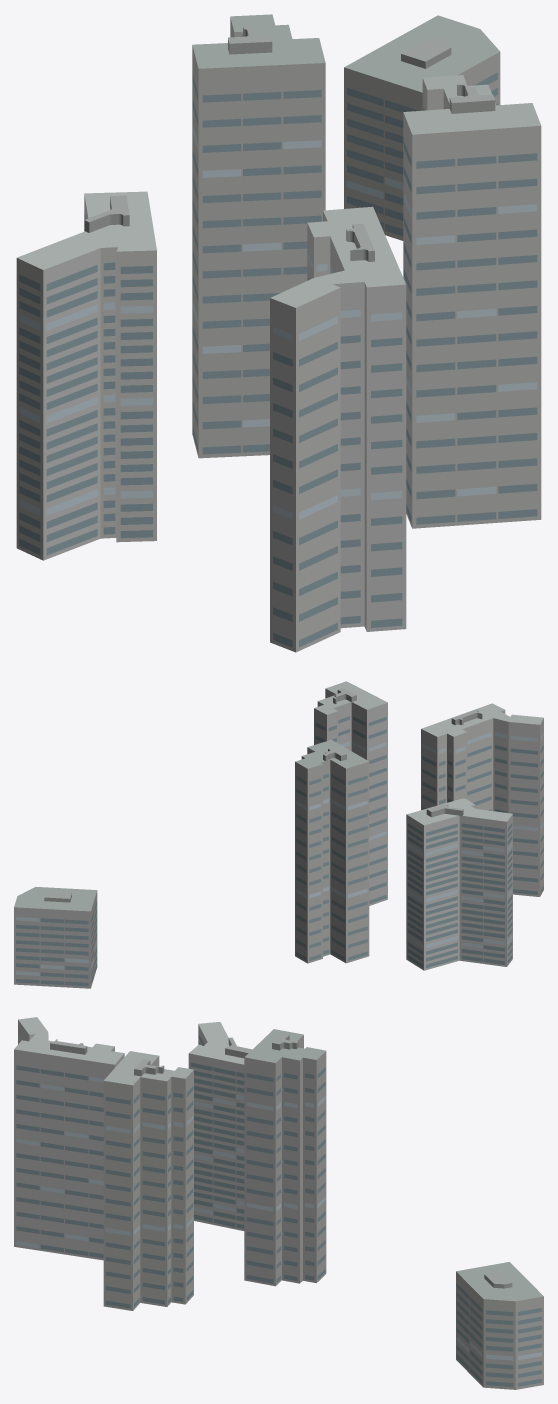
Rendered from apt-a10026350.glb.
3 renders of one model, top to bottom at view 1: azimuth 30°, elevation 25°; view 2: azimuth 150°, elevation 25°; view 3: azimuth 270°, elevation 25°, orthographic. The views are drawn at different scales.
Parts seen in each view (by area): view 1: apt-a10026350; view 2: apt-a10026350; view 3: apt-a10026350.
Boxes of the visible parts, x1=… form: apt-a10026350: x1=16, y1=14, x2=541, y2=652; apt-a10026350: x1=14, y1=681, x2=543, y2=988; apt-a10026350: x1=14, y1=1017, x2=543, y2=1389.
Bounding box in the file's own units: 168 × 90 × 186.
